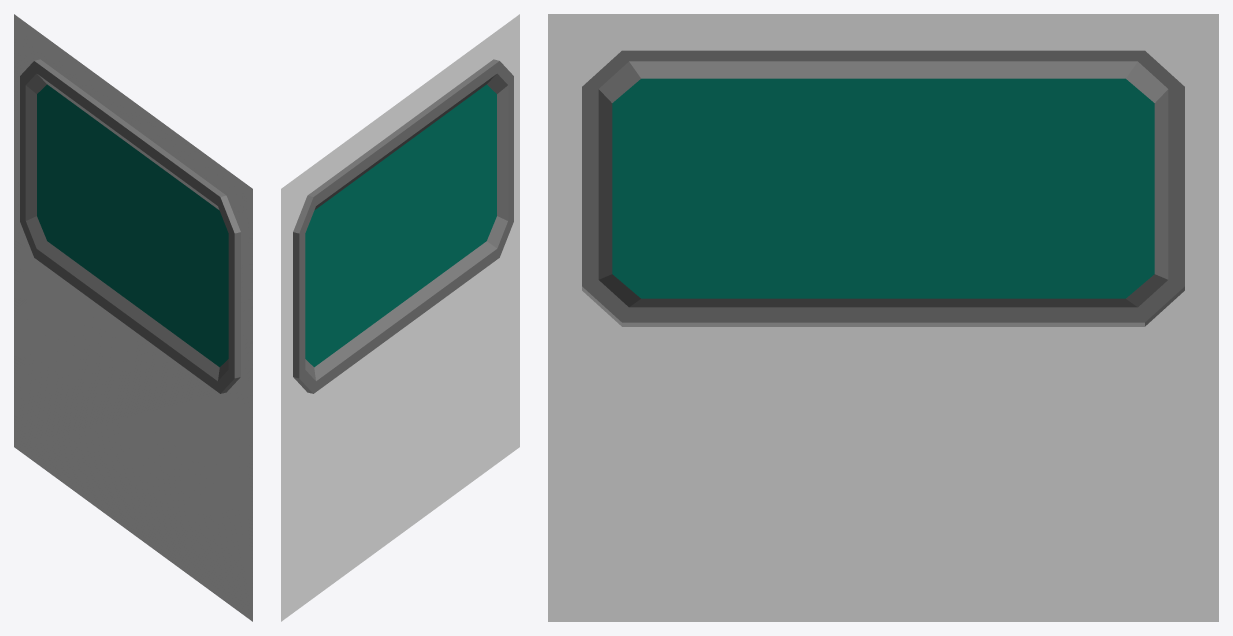
Rendered from S_assete_basement_wall_midel_10.fbx.
3 renders of one model, left to right at view 1: azimuth 30°, elevation 25°; view 2: azimuth 150°, elevation 25°; view 3: azimuth 270°, elevation 25°, orthographic. The views are drawn at different scales.
Parts seen in each view (by area): view 1: S_basement_wall_009; view 2: S_basement_wall_009; view 3: S_basement_wall_009.
Part boxes in pixels (x1,y1,x2,y2): S_basement_wall_009: (14, 14, 252, 621); S_basement_wall_009: (281, 14, 519, 621); S_basement_wall_009: (548, 14, 1218, 621).
Size of the model in its own units: 3 by 200 by 200.
